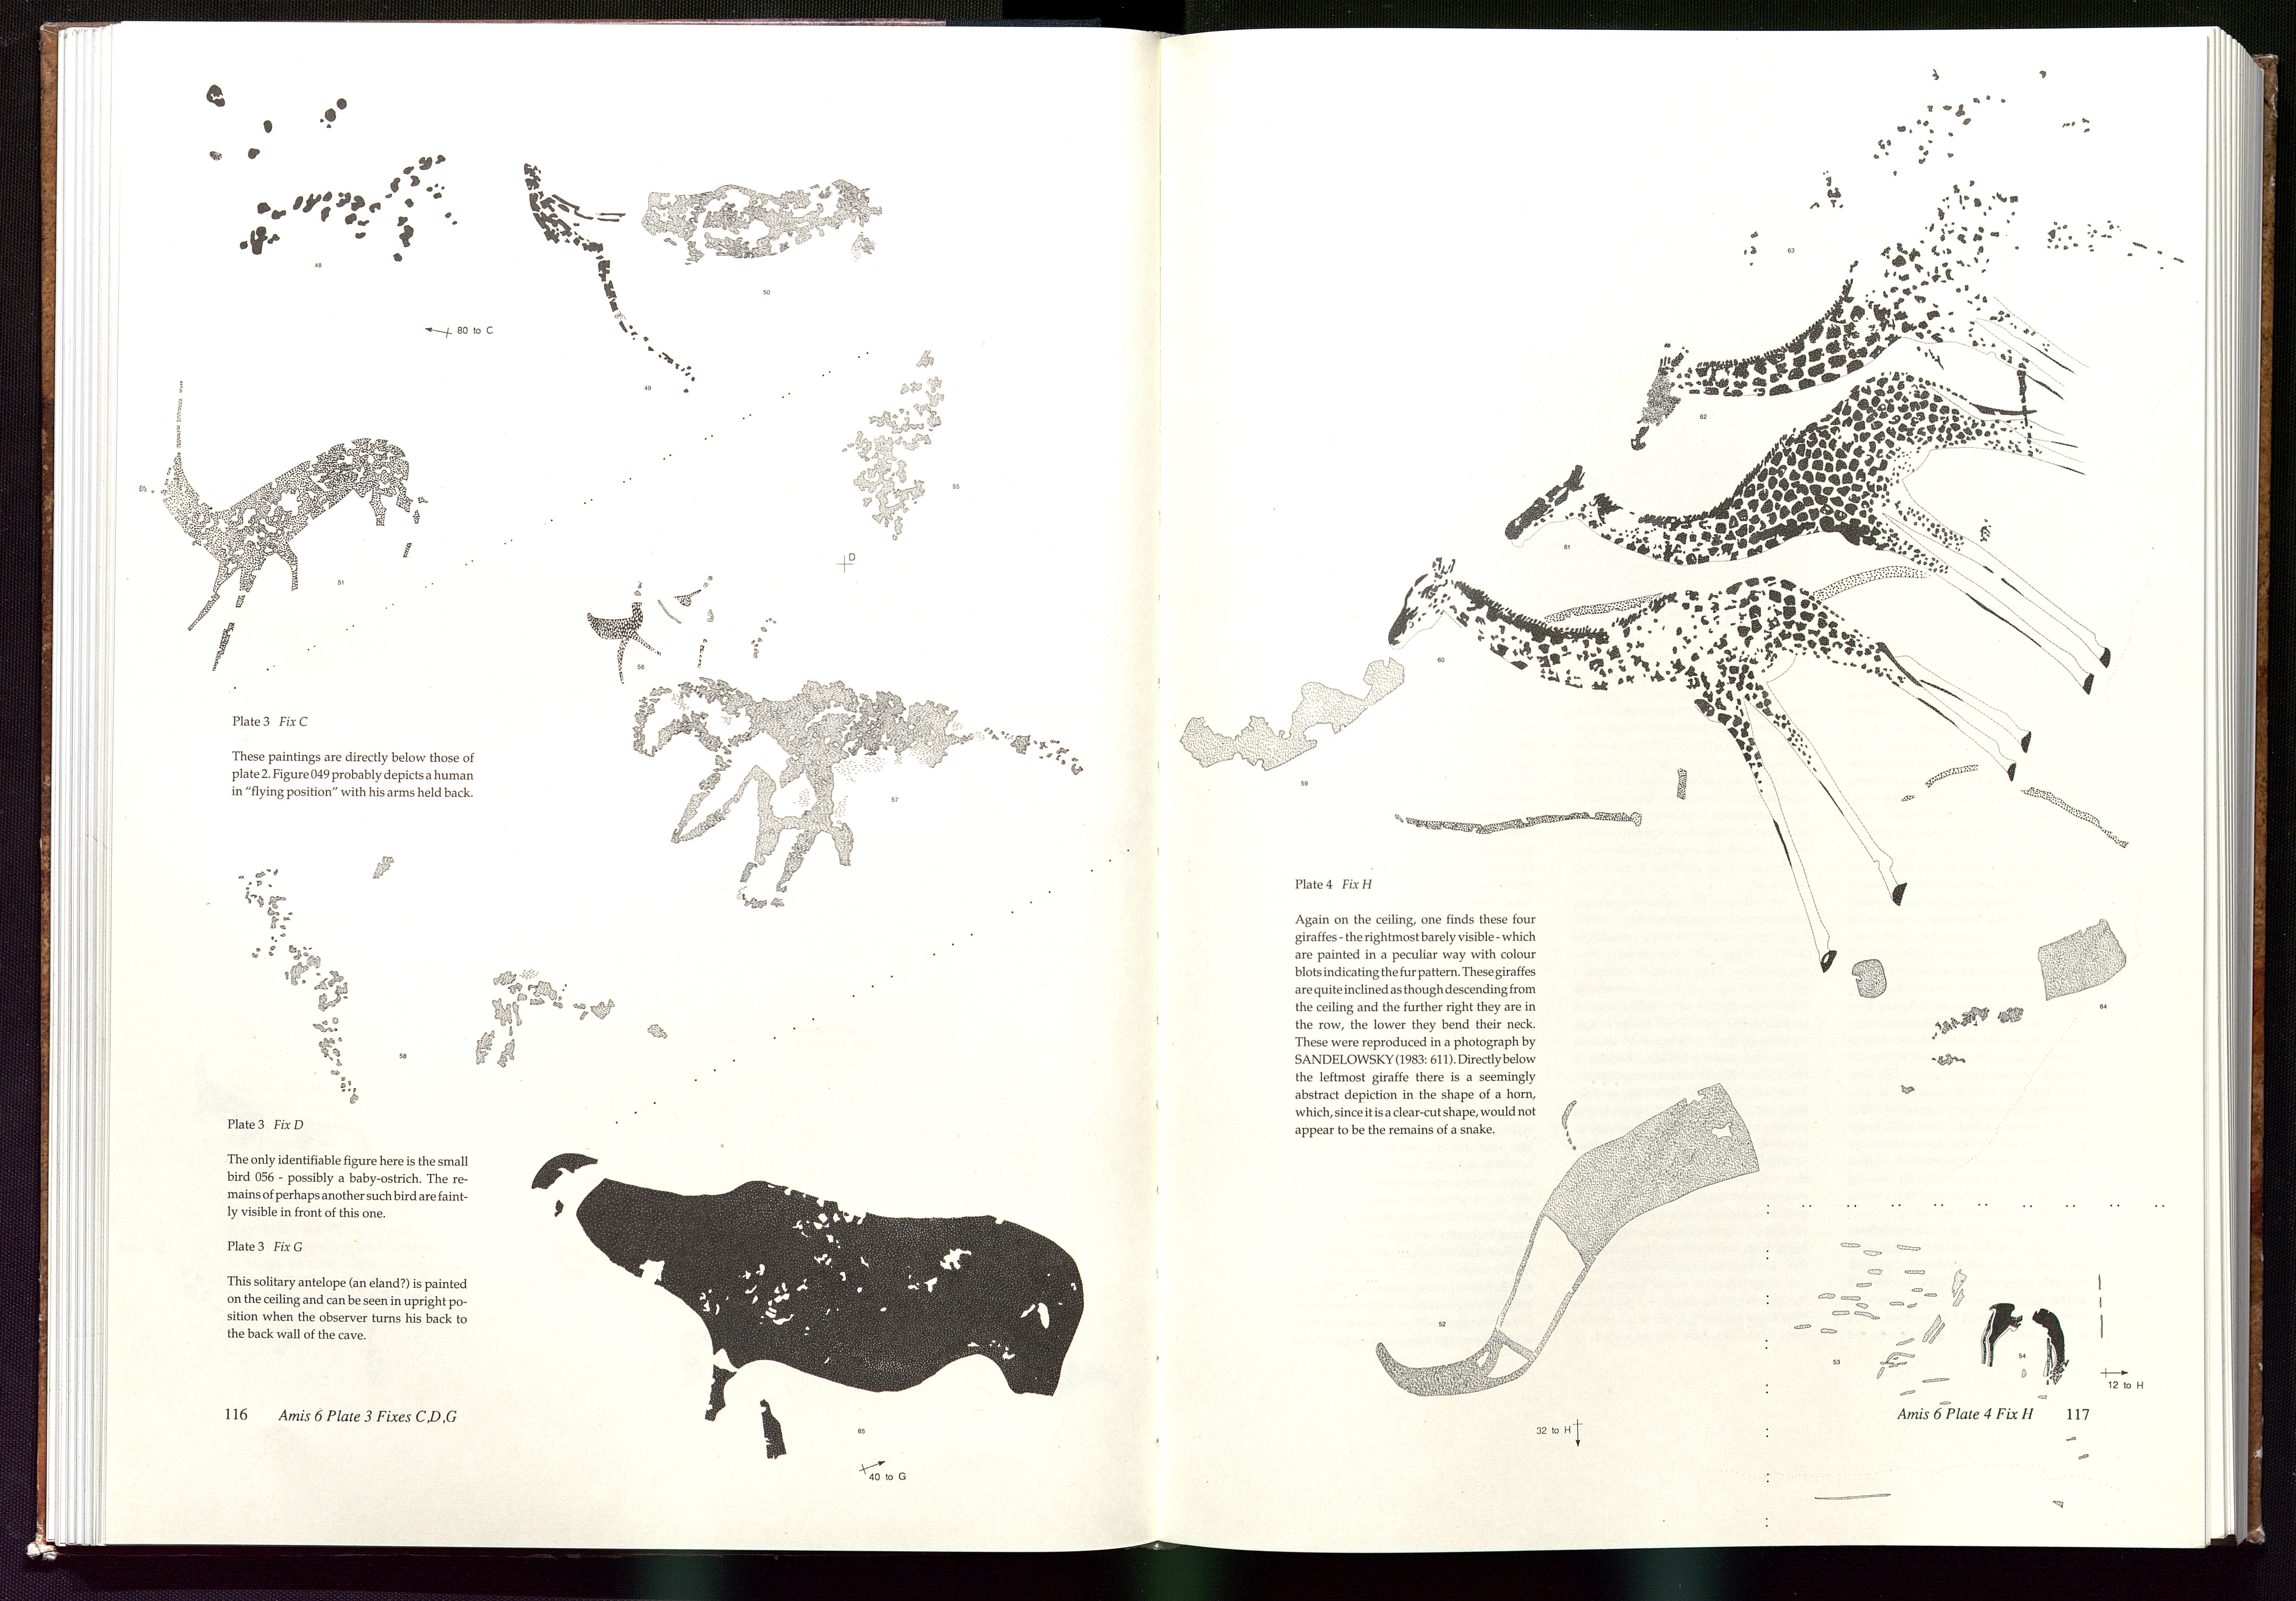animal: (1384, 555, 2034, 972), (1502, 370, 2113, 697), (529, 1152, 1087, 1461), (1628, 176, 2149, 450), (134, 379, 429, 672)
